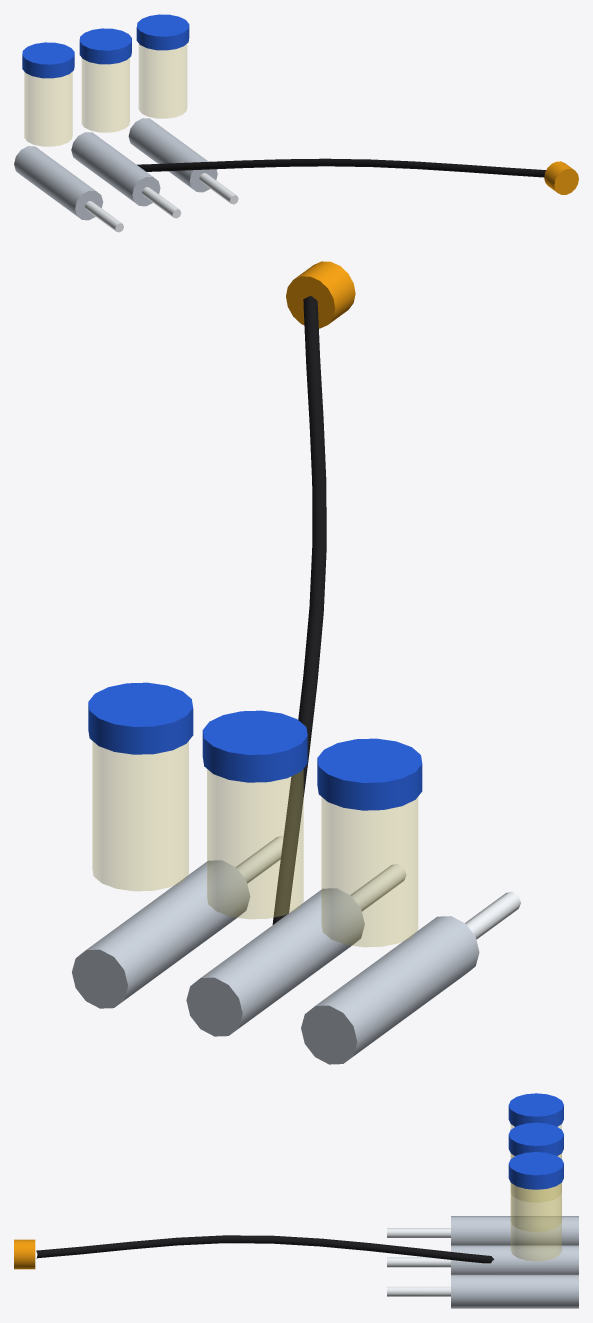
Rendered from pedal_hydraulics.glb.
3 views of the same model, one above another, from view 1: azimuth 30°, elevation 25°; view 2: azimuth 150°, elevation 25°; view 3: azimuth 270°, elevation 25° (orthographic). The views are drawn at different scales.
Visible parts, largest first — view 1: Pedal_Bulkhead_Master_Cylinders_Assembly; view 2: Pedal_Bulkhead_Master_Cylinders_Assembly; view 3: Pedal_Bulkhead_Master_Cylinders_Assembly.
Part boxes in pixels (<box>): Pedal_Bulkhead_Master_Cylinders_Assembly: <box>14,14,578,232</box>; Pedal_Bulkhead_Master_Cylinders_Assembly: <box>72,261,520,1064</box>; Pedal_Bulkhead_Master_Cylinders_Assembly: <box>14,1093,578,1308</box>.
Size of the model in its own units: 0.345 by 0.15 by 0.53.
